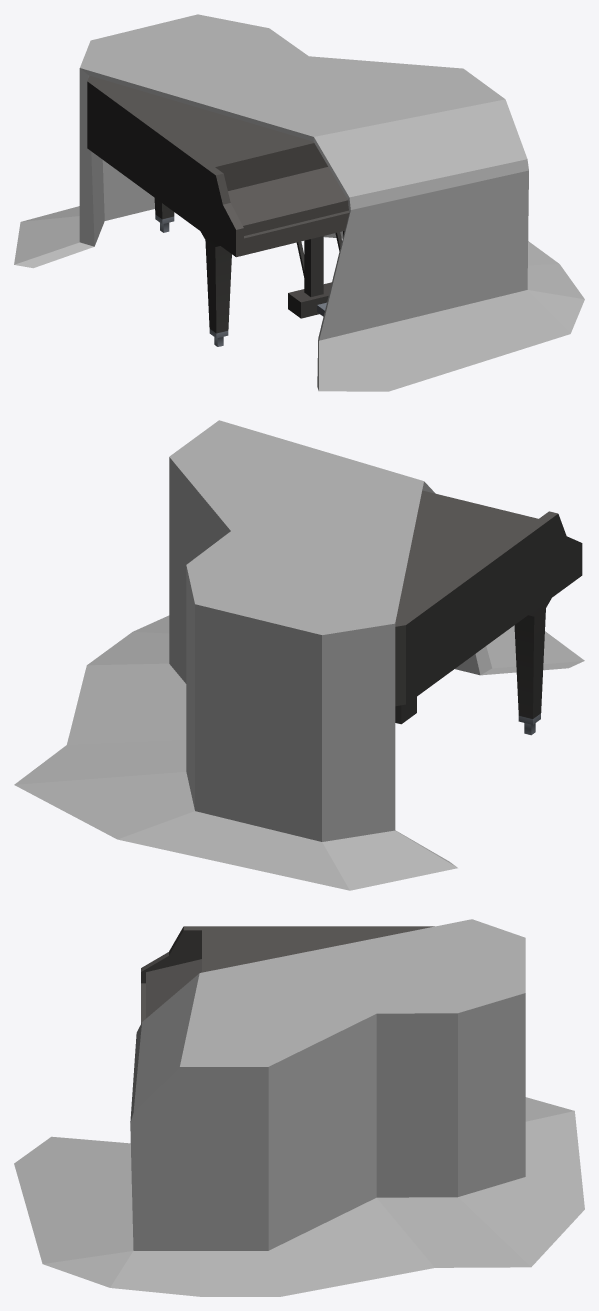
The model's file is AI_Prop_Piano_Covered.fbx.
3 renders of one model, top to bottom at view 1: azimuth 30°, elevation 25°; view 2: azimuth 150°, elevation 25°; view 3: azimuth 270°, elevation 25°, orthographic. The views are drawn at different scales.
Visible parts, largest first — view 1: AI_Prop_Piano_Covered; view 2: AI_Prop_Piano_Covered; view 3: AI_Prop_Piano_Covered.
Part boxes in pixels (bbox=[...]): AI_Prop_Piano_Covered: bbox=[14, 14, 584, 391]; AI_Prop_Piano_Covered: bbox=[14, 420, 584, 890]; AI_Prop_Piano_Covered: bbox=[14, 919, 584, 1296].
Size of the model in its own units: 5.07 by 2.24 by 5.8.
